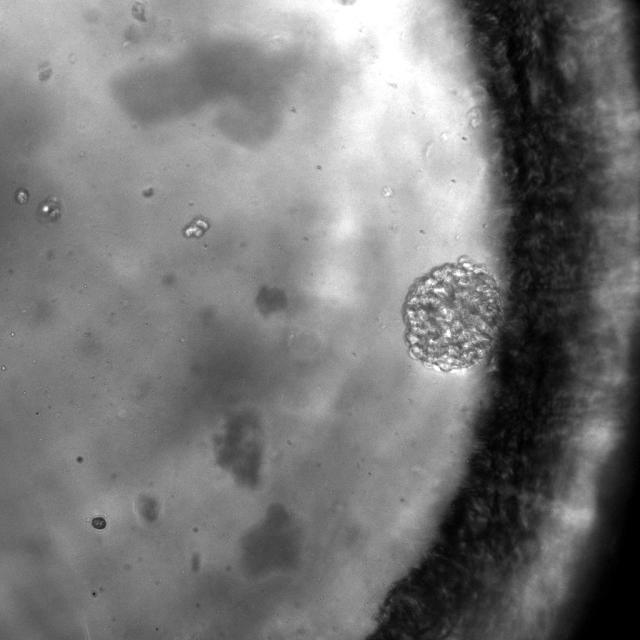organoid: (402, 257, 502, 372), (182, 217, 210, 237), (39, 197, 61, 219), (14, 187, 29, 205), (91, 516, 106, 530)
